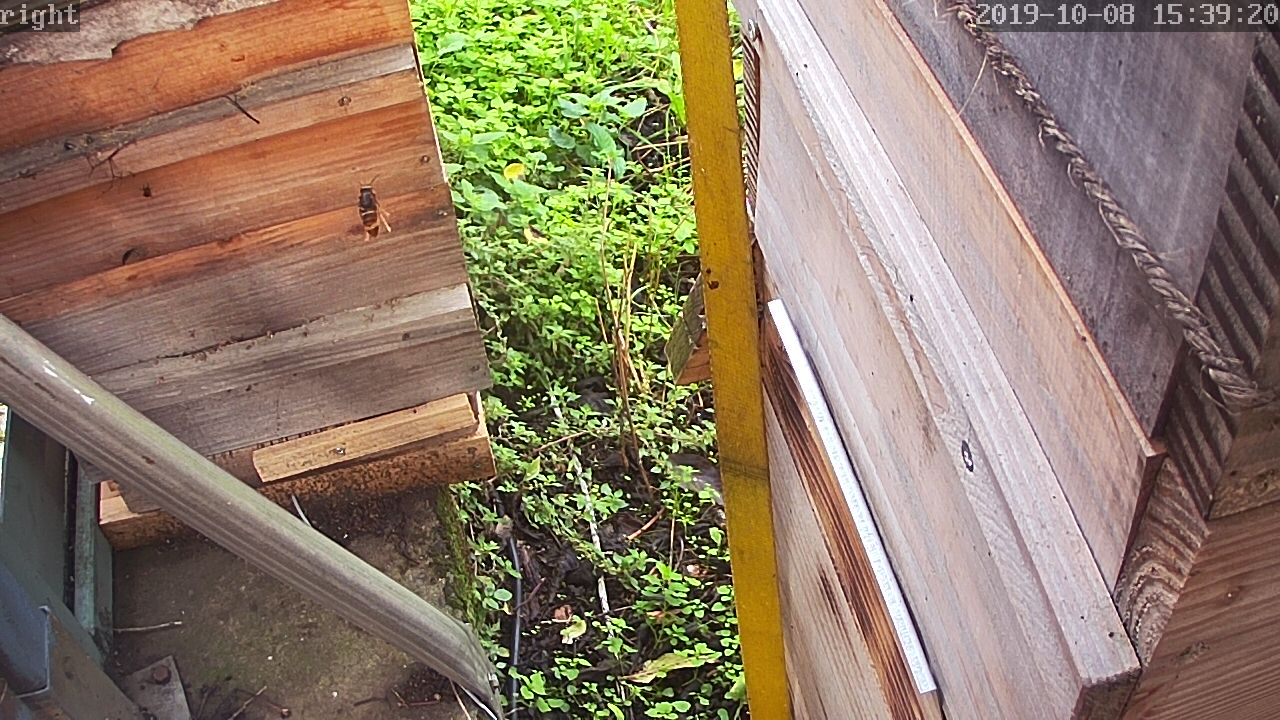hornet: (342, 176, 389, 237), (707, 546, 741, 600)
